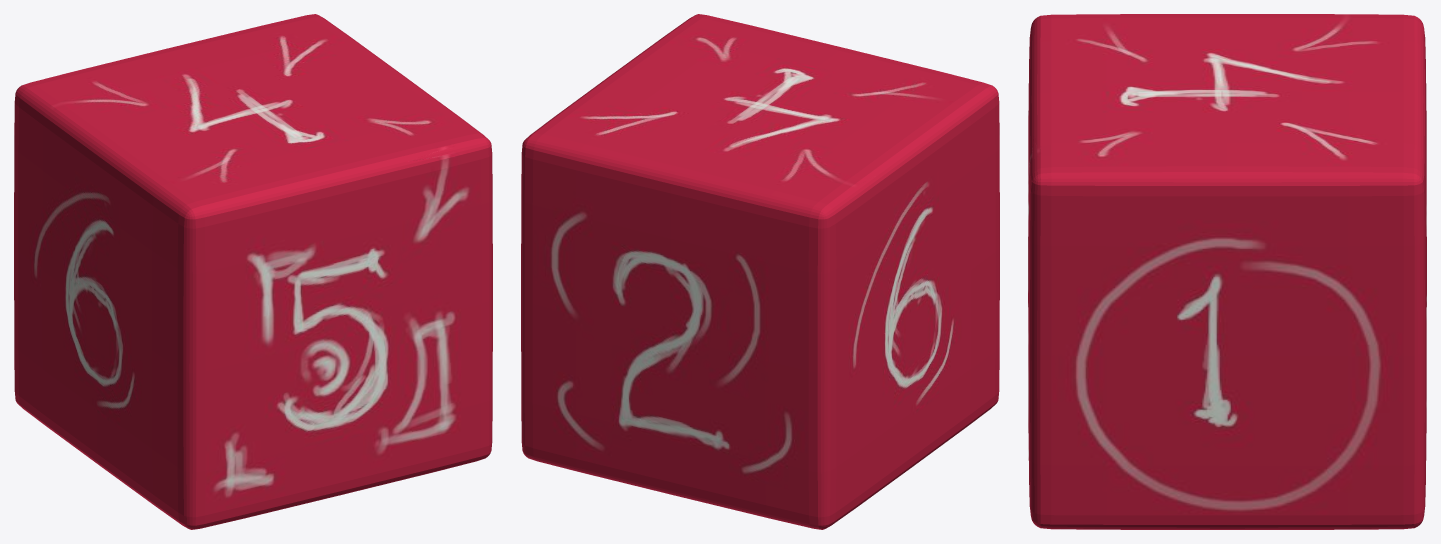
3 renders of one model, left to right at view 1: azimuth 30°, elevation 25°; view 2: azimuth 150°, elevation 25°; view 3: azimuth 270°, elevation 25°, orthographic. The views are drawn at different scales.
Parts seen in each view (by area): view 1: d6; view 2: d6; view 3: d6.
Boxes of the visible parts, x1=… form: d6: x1=14, y1=14, x2=492, y2=529; d6: x1=521, y1=14, x2=999, y2=529; d6: x1=1028, y1=14, x2=1426, y2=529.
Size of the model in its own units: 4.64 by 4.64 by 4.64.
1 material, 1 textured.
